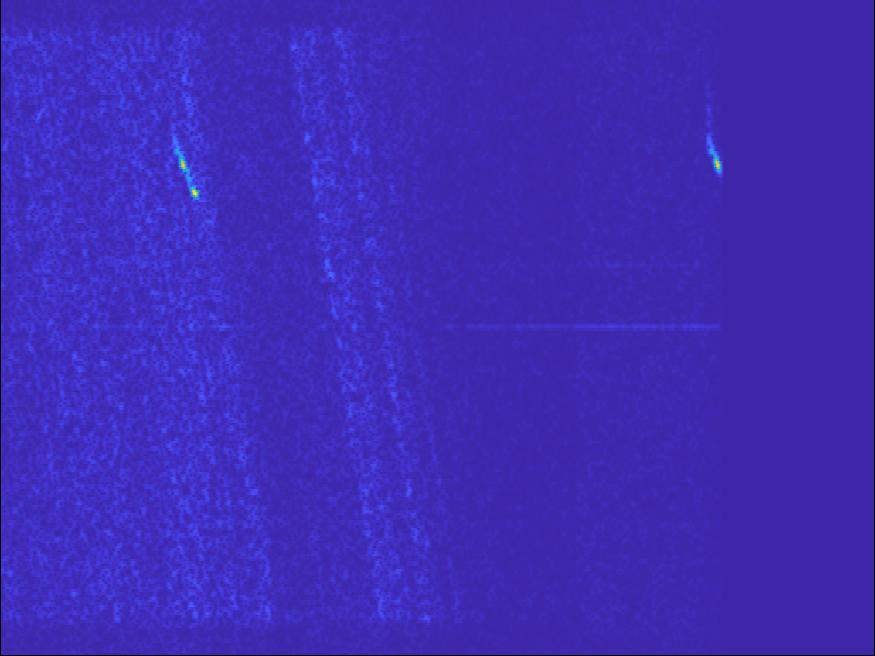Interference: (157, 141, 226, 211), (689, 122, 740, 192)
